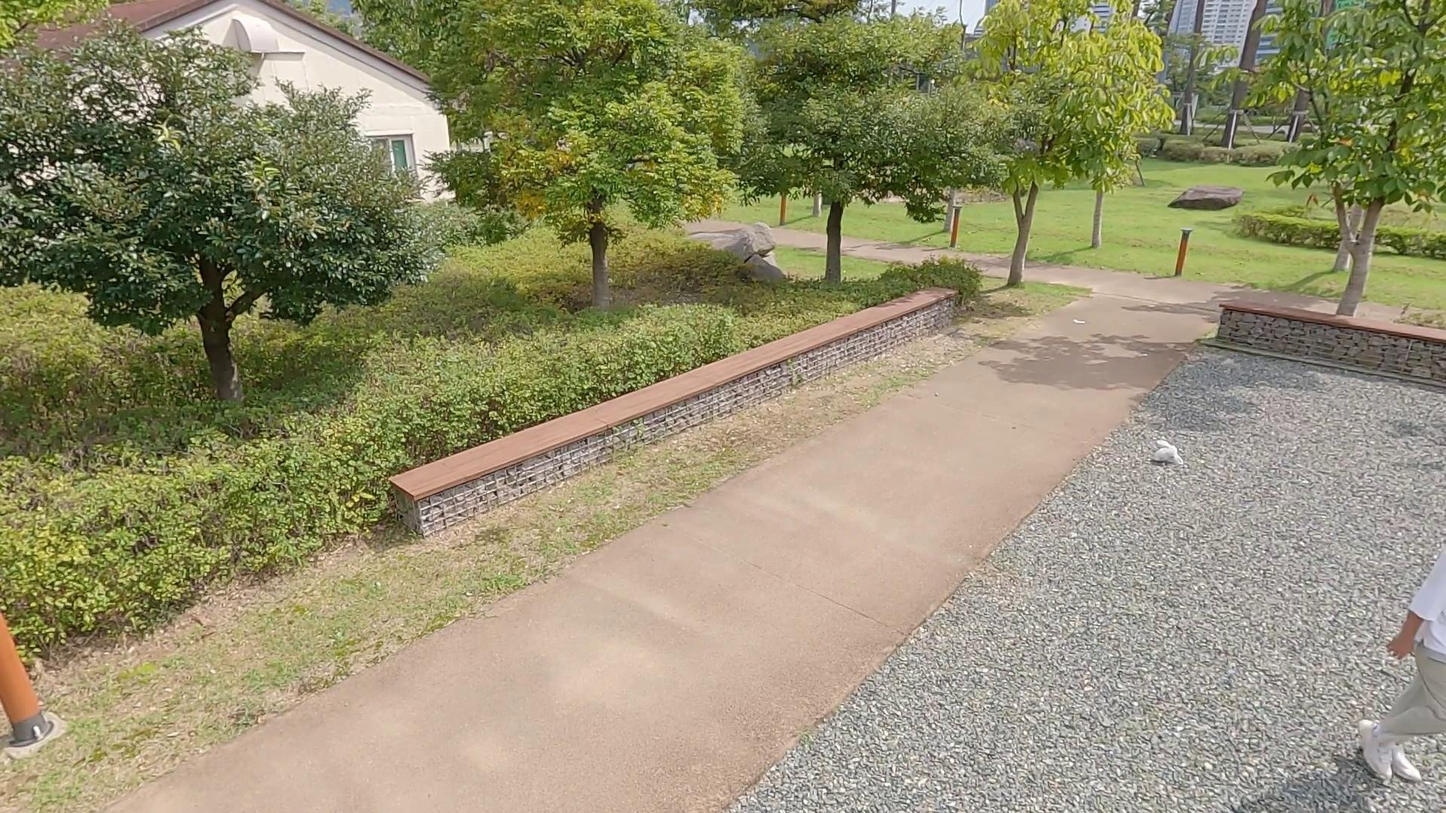person: (1352, 540, 1446, 785)
trash: (1150, 439, 1184, 468)
